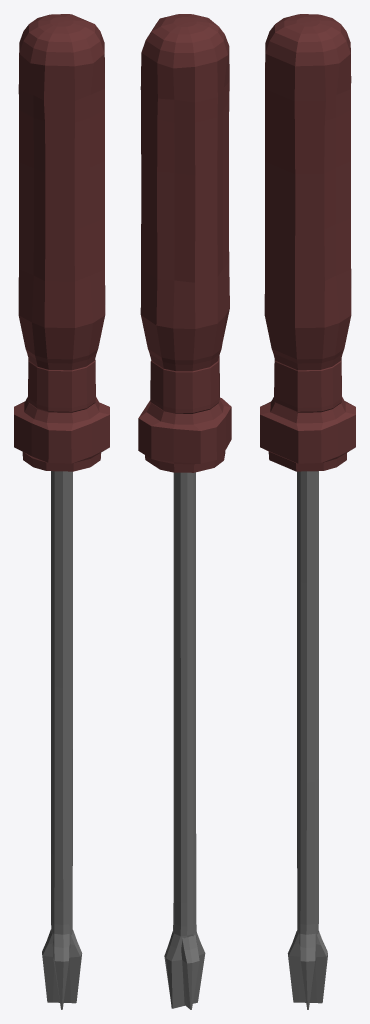
File: Screwdriver2_Low.fbx
3 views of the same model, side by side, from view 1: azimuth 90°, elevation 25°; view 2: azimuth 210°, elevation 25°; view 3: azimuth 270°, elevation 25° (orthographic).
Visible parts, largest first — view 1: Screwdriver2_Low; view 2: Screwdriver2_Low; view 3: Screwdriver2_Low.
Part boxes in pixels (x1,y1,x2,y2): Screwdriver2_Low: [14, 14, 109, 1009]; Screwdriver2_Low: [138, 14, 231, 1009]; Screwdriver2_Low: [260, 14, 355, 1009].
Size of the model in its own units: 1.44 by 16.31 by 1.44.
